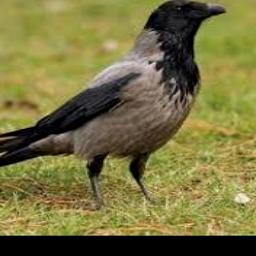Crow: (0, 0, 225, 206)
